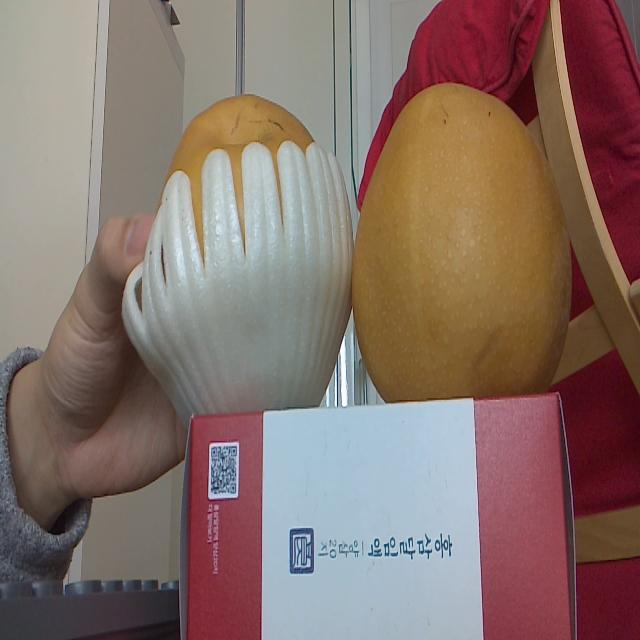pear: (345, 80, 583, 404), (148, 90, 350, 427)
